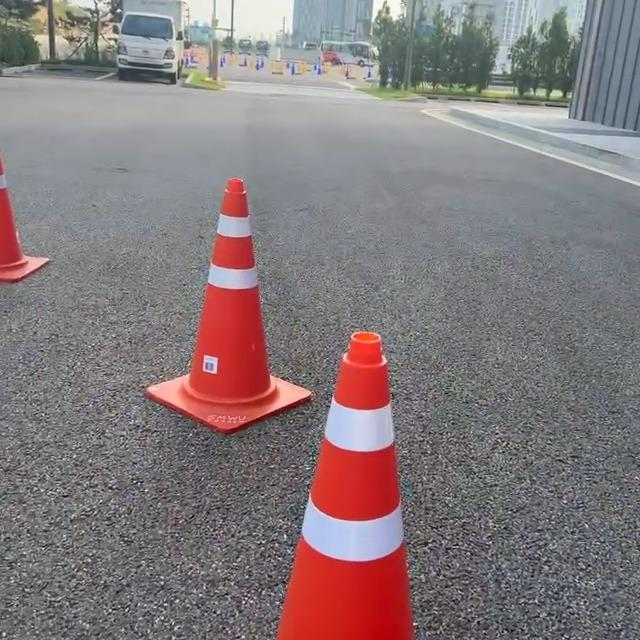fallen_object: (252, 299, 460, 640), (152, 152, 291, 420), (0, 129, 76, 321)
